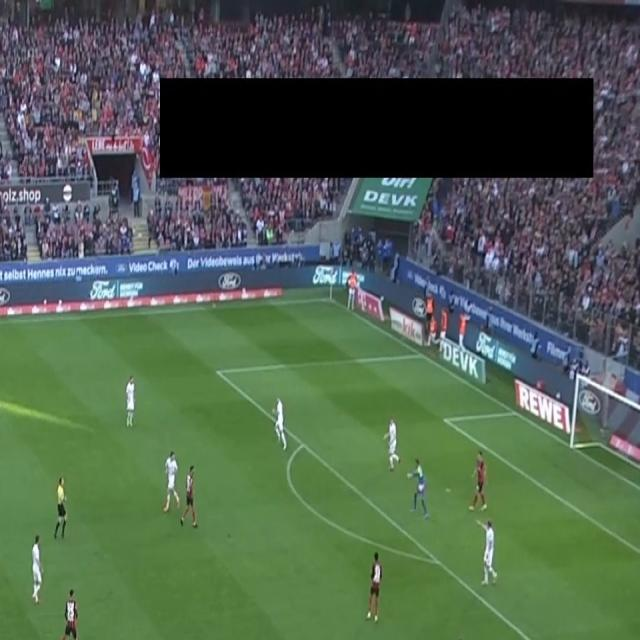ball: (419, 483, 423, 491)
